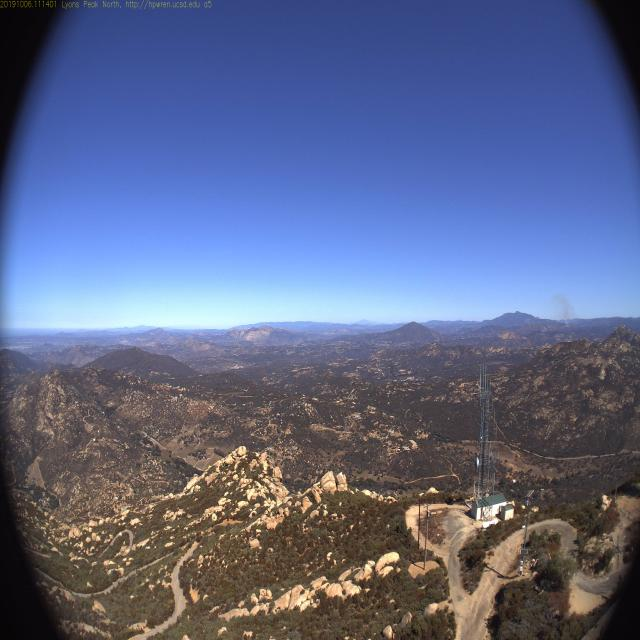smoke: (544, 286, 580, 325)
